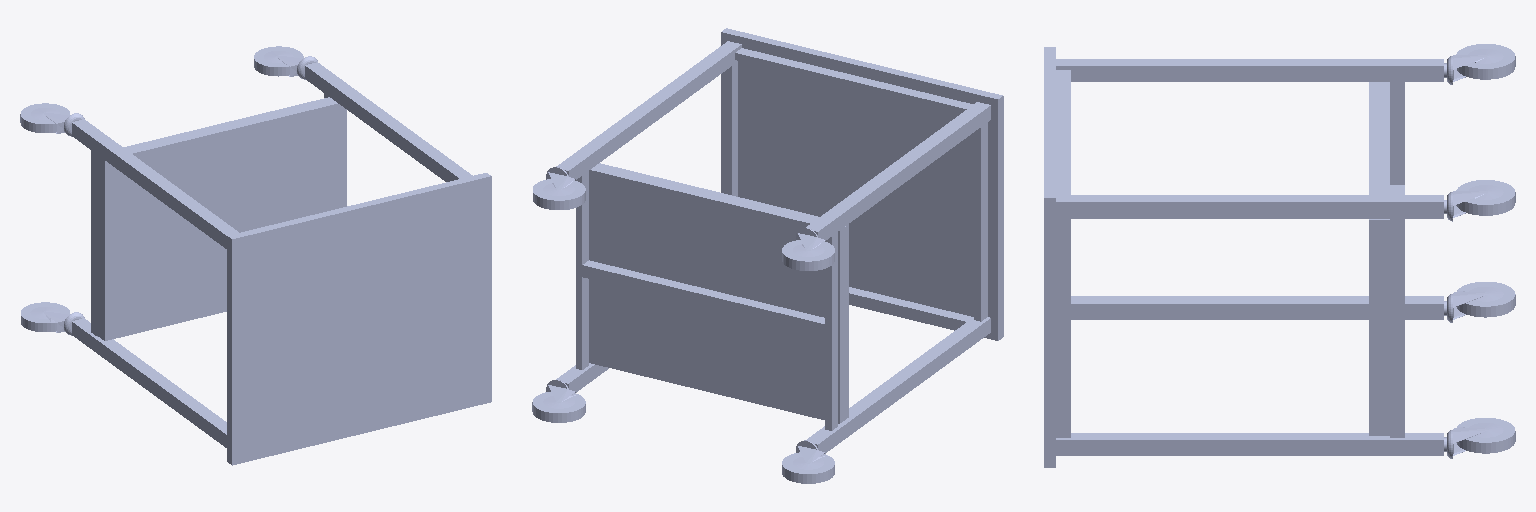
robot.urdf — xArm7_table_m:
<?xml version="1.0" encoding="utf-8"?>
<!-- This URDF was automatically created by SolidWorks to URDF Exporter! Originally created by [author] ([email redacted]) 
     Commit Version: 1.5.1-0-g916b5db  Build Version: 1.5.7152.31018
     For more information, please see http://wiki.ros.org/sw_urdf_exporter -->
<robot
  name="xArm7_table_m">
  <link
    name="xArm7_table_m">
    <inertial>
      <origin
        xyz="-1.2688E-06 -0.00044903 -1.18889999999725E-08"
        rpy="0 0 0" />
      <mass
        value="18.25" />
      <inertia
        ixx="1.7526"
        ixy="0.0092329"
        ixz="-9.44639999999943E-06"
        iyy="1.0779"
        iyz="-8.62079999999424E-05"
        izz="2.0182" />
    </inertial>
    <visual>
      <origin
        xyz="0 0 0"
        rpy="1.5707963267949 0 0" />
      <geometry>
        <mesh
          filename="package://xArm7_table_m/meshes/xArm7_table_m.STL" />
      </geometry>
      <material
        name="">
        <color
          rgba="0.79216 0.81961 0.93333 1" />
        <texture
          filename="package://xArm7_table_m/textures/" />
      </material>
    </visual>
    <collision>
      <origin
        xyz="0 0 0"
        rpy="1.5707963267949 0 0" />
      <geometry>
        <mesh
          filename="package://xArm7_table_m/meshes/xArm7_table_m.STL" />
      </geometry>
    </collision>
  </link>
</robot>

--- Render facts (derived) ---
3 views of the same robot in one strip: view 1: azimuth 30°, elevation 25°; view 2: azimuth 150°, elevation 25°; view 3: azimuth 270°, elevation 25° (orthographic).
Model xArm7_table_m with 1 links and 0 joints (none), rooted at xArm7_table_m, posed every joint at zero.
Links seen in each view (by area): view 1: xArm7_table_m; view 2: xArm7_table_m; view 3: xArm7_table_m.
Boxes of the visible links, left/top/right/bottom form: xArm7_table_m: left=20, top=46, right=491, bottom=465; xArm7_table_m: left=532, top=28, right=1003, bottom=483; xArm7_table_m: left=1044, top=44, right=1515, bottom=467.
Bounding box of the posed robot: 0.655 × 0.79 × 0.5 m (x, y, z).
1 mesh visuals loaded from 1 distinct referenced files (1 binary STL).